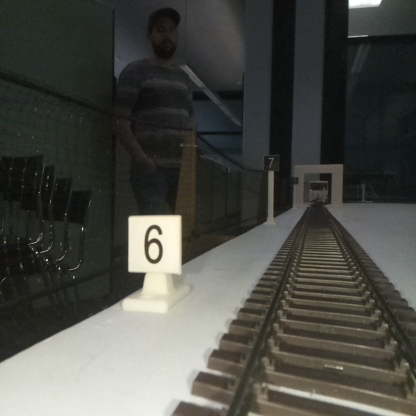black-info-7: (264, 155, 278, 223)
white-stop-6: (128, 214, 181, 308)
